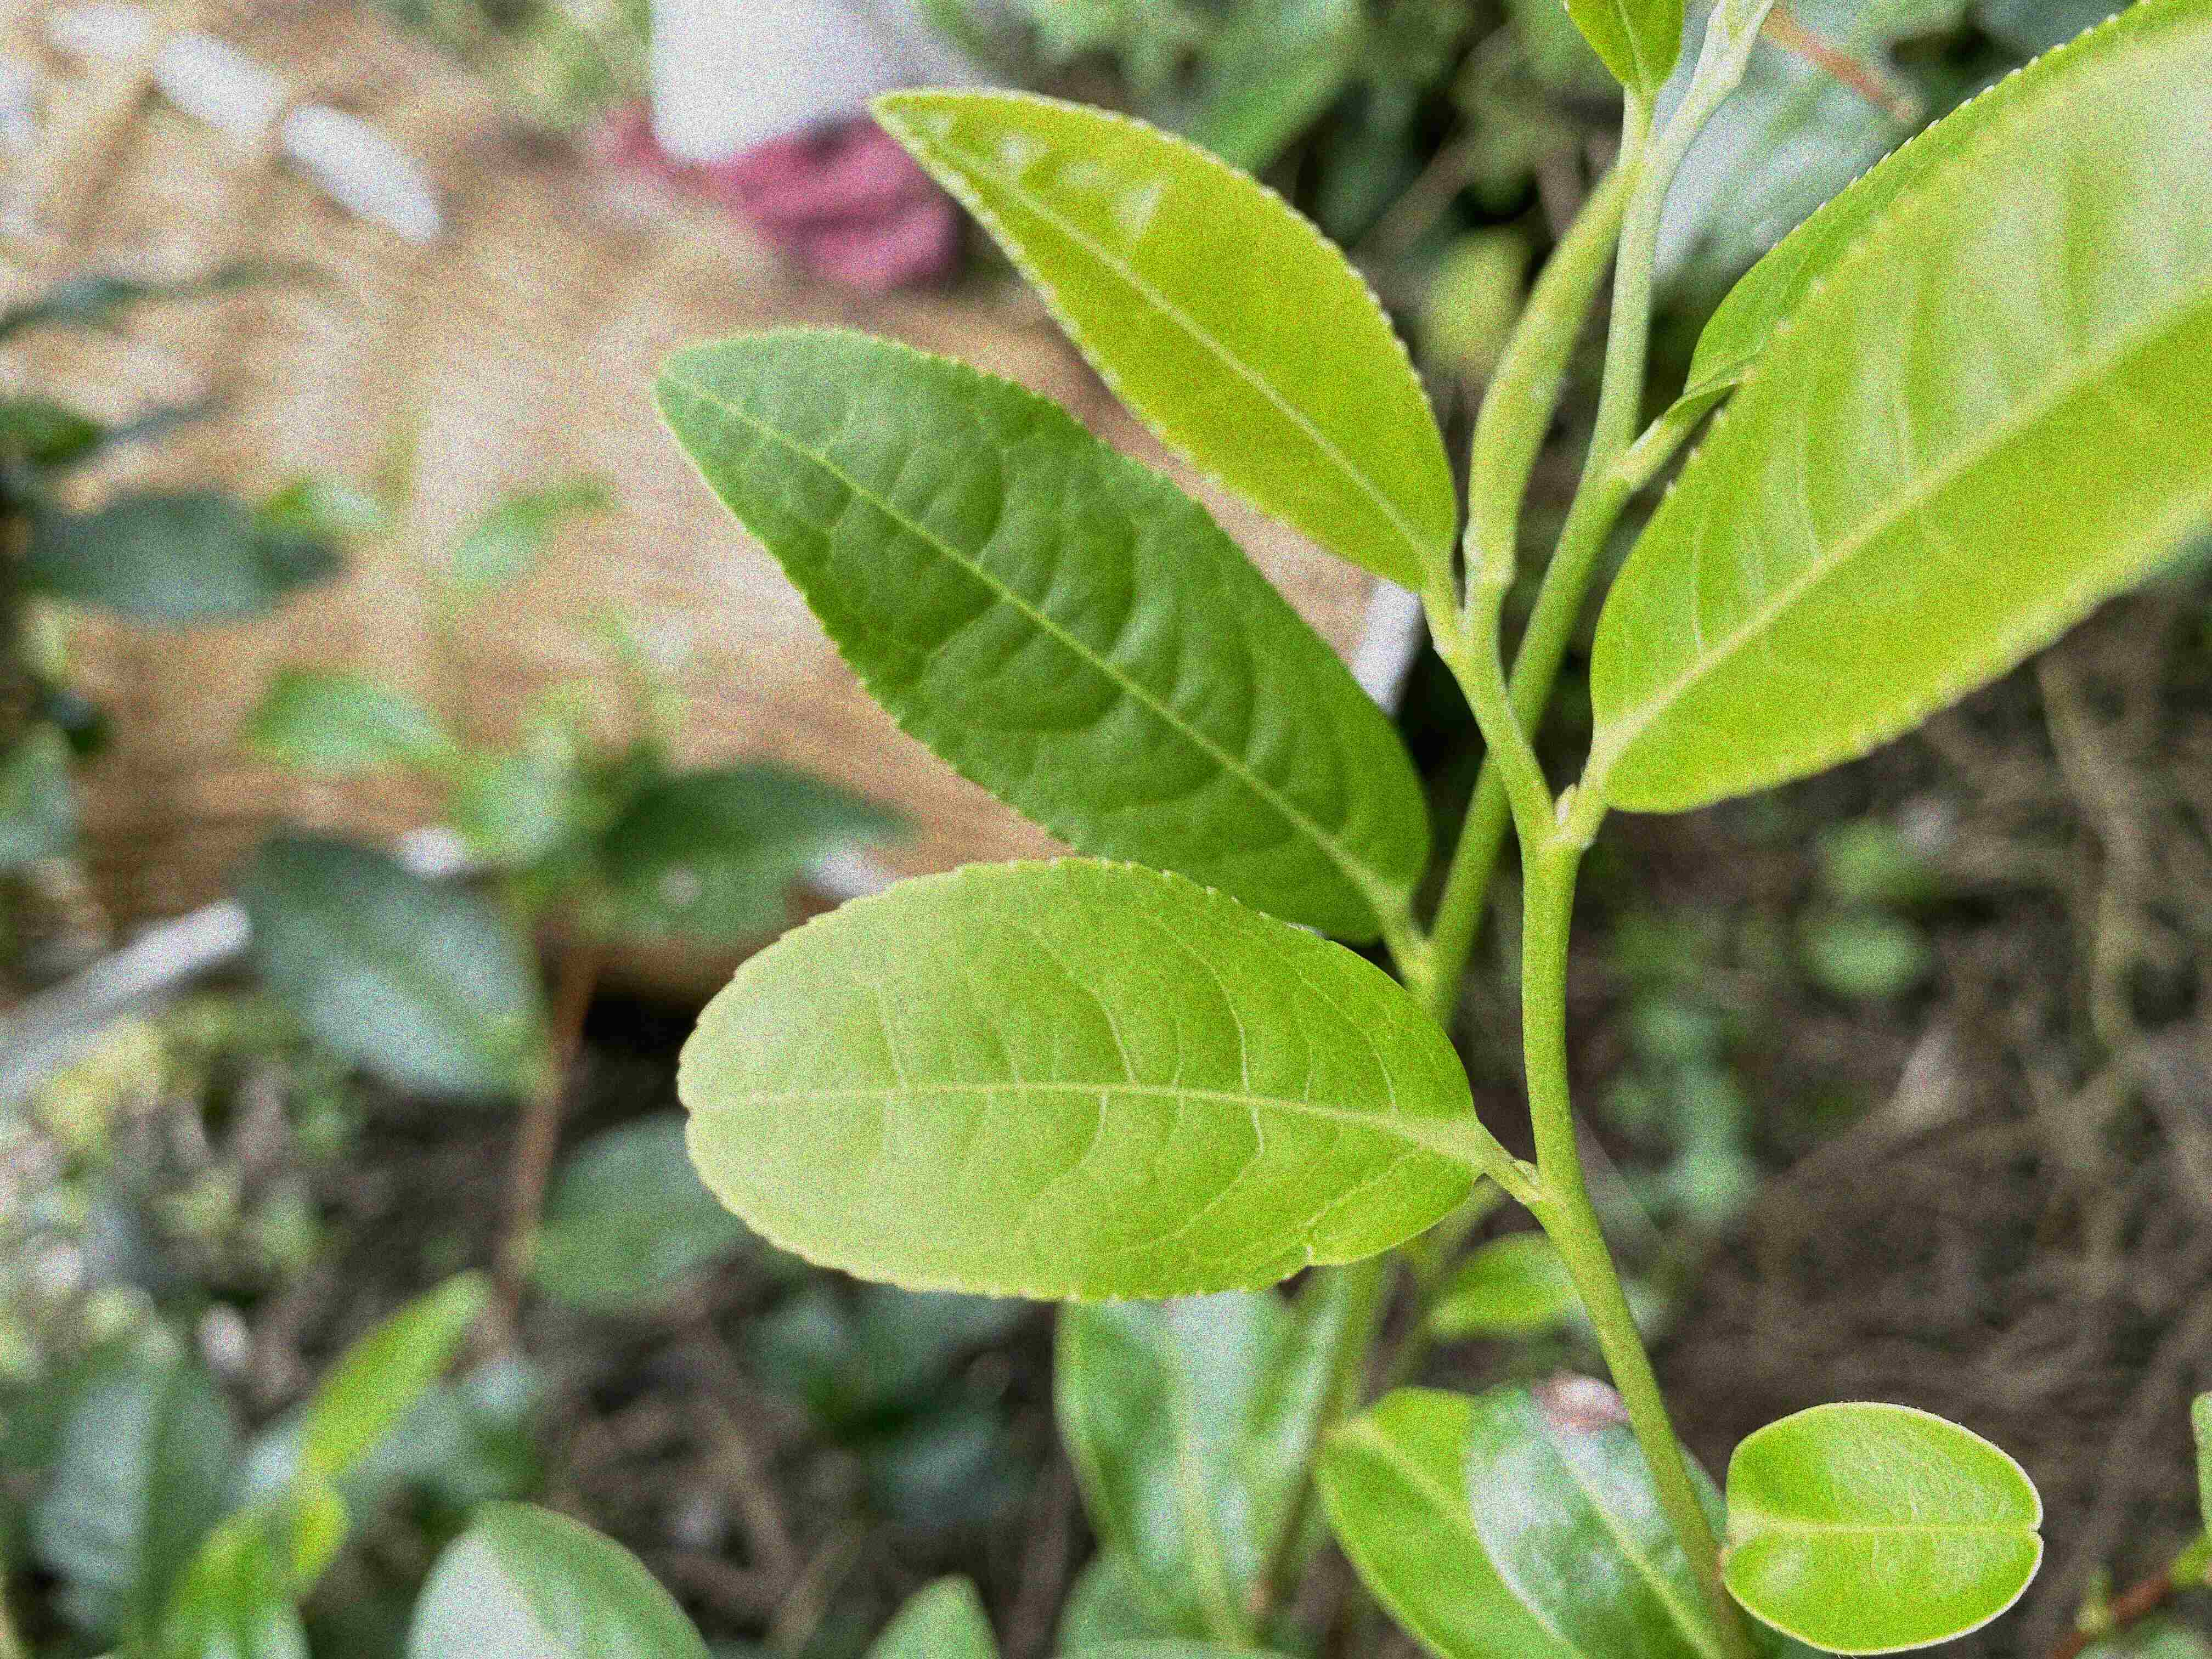healthy: (1580, 35, 2212, 816), (650, 335, 1430, 941), (674, 854, 1482, 1304), (855, 80, 1458, 589), (1721, 1401, 2047, 1652)
tanju_high: (1465, 1373, 1723, 1656)
